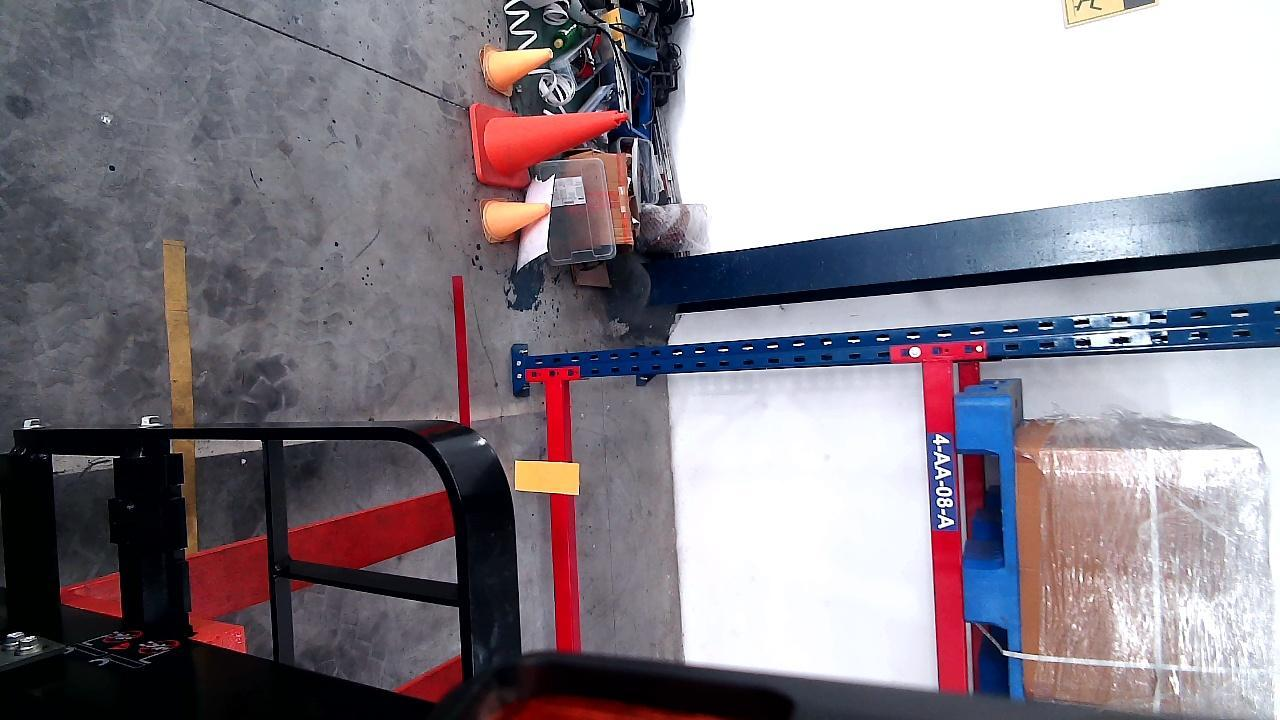red_line: (447, 272, 471, 426)
yellow_line: (164, 233, 206, 556)
